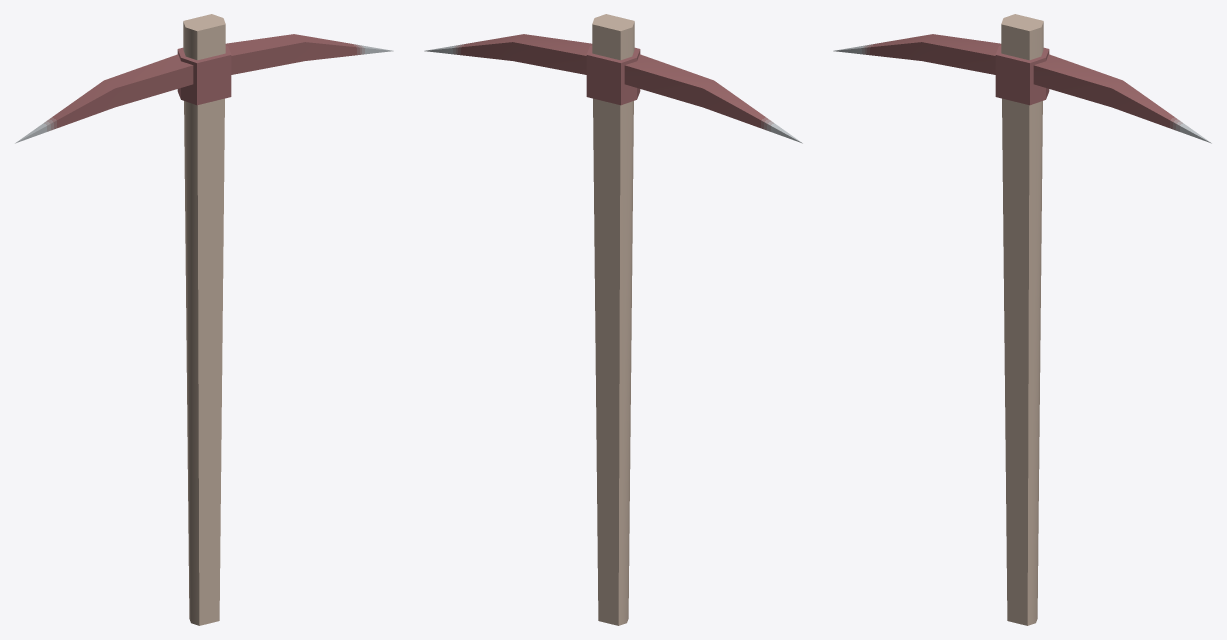
Rendered from 00e6_Pickaxe.glb.
The picture shows the model from 3 angles, left to right: view 1: azimuth 30°, elevation 25°; view 2: azimuth 150°, elevation 25°; view 3: azimuth 330°, elevation 25°; orthographic projection.
Visible parts, largest first — view 1: part_0; view 2: part_0; view 3: part_0.
Part boxes in pixels (<box>): part_0: <box>15,14,393,625</box>; part_0: <box>424,14,802,625</box>; part_0: <box>833,14,1211,625</box>.
Bounding box in the file's own units: 0.6 × 0.9 × 0.0531.
Materials: 1 (1 with a texture image).
